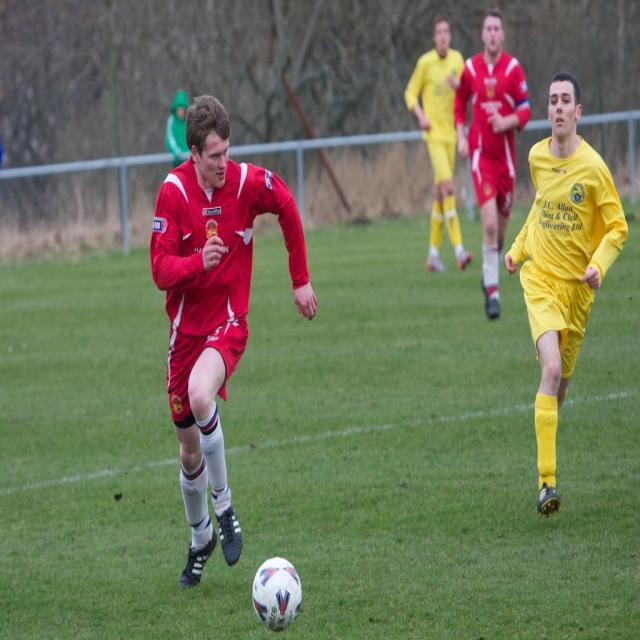football: (242, 544, 317, 633)
